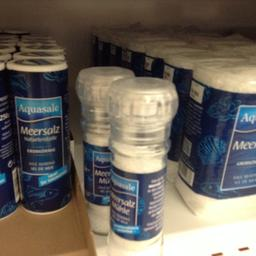spices: (176, 57, 255, 215), (108, 76, 178, 254), (4, 54, 70, 212), (74, 65, 128, 233)
